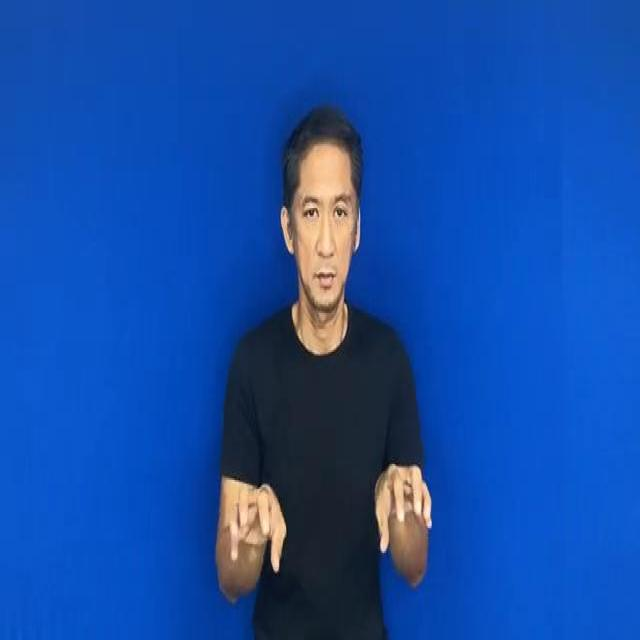egg: (209, 446, 447, 574)
